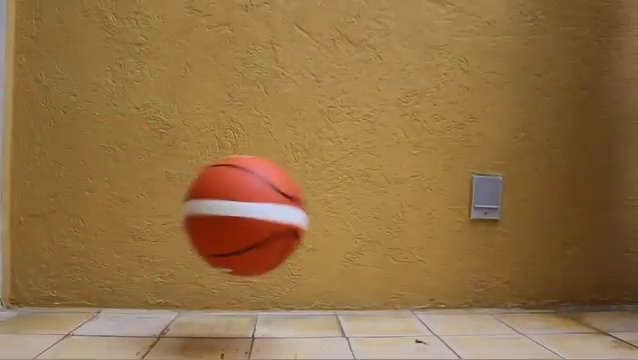ball: (182, 154, 308, 277)
